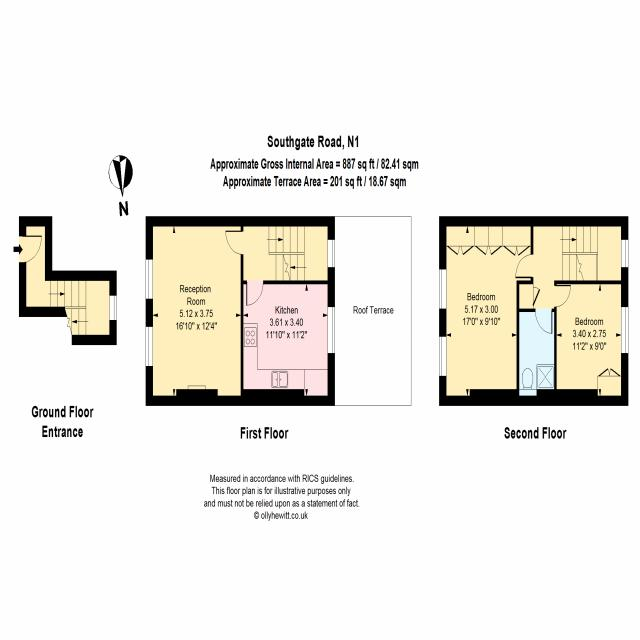DOOR: (18, 234, 43, 267), (223, 229, 244, 257), (534, 307, 554, 336), (245, 279, 265, 307), (514, 252, 534, 280), (554, 284, 572, 310)
ROOM: (145, 216, 244, 406), (438, 216, 534, 406), (240, 280, 335, 406), (553, 280, 629, 406)
WINDOW: (327, 305, 336, 356), (438, 334, 448, 379), (620, 306, 629, 356), (144, 258, 154, 301), (145, 325, 154, 368), (438, 268, 447, 311), (108, 294, 118, 322), (327, 238, 336, 269), (620, 238, 629, 269)
